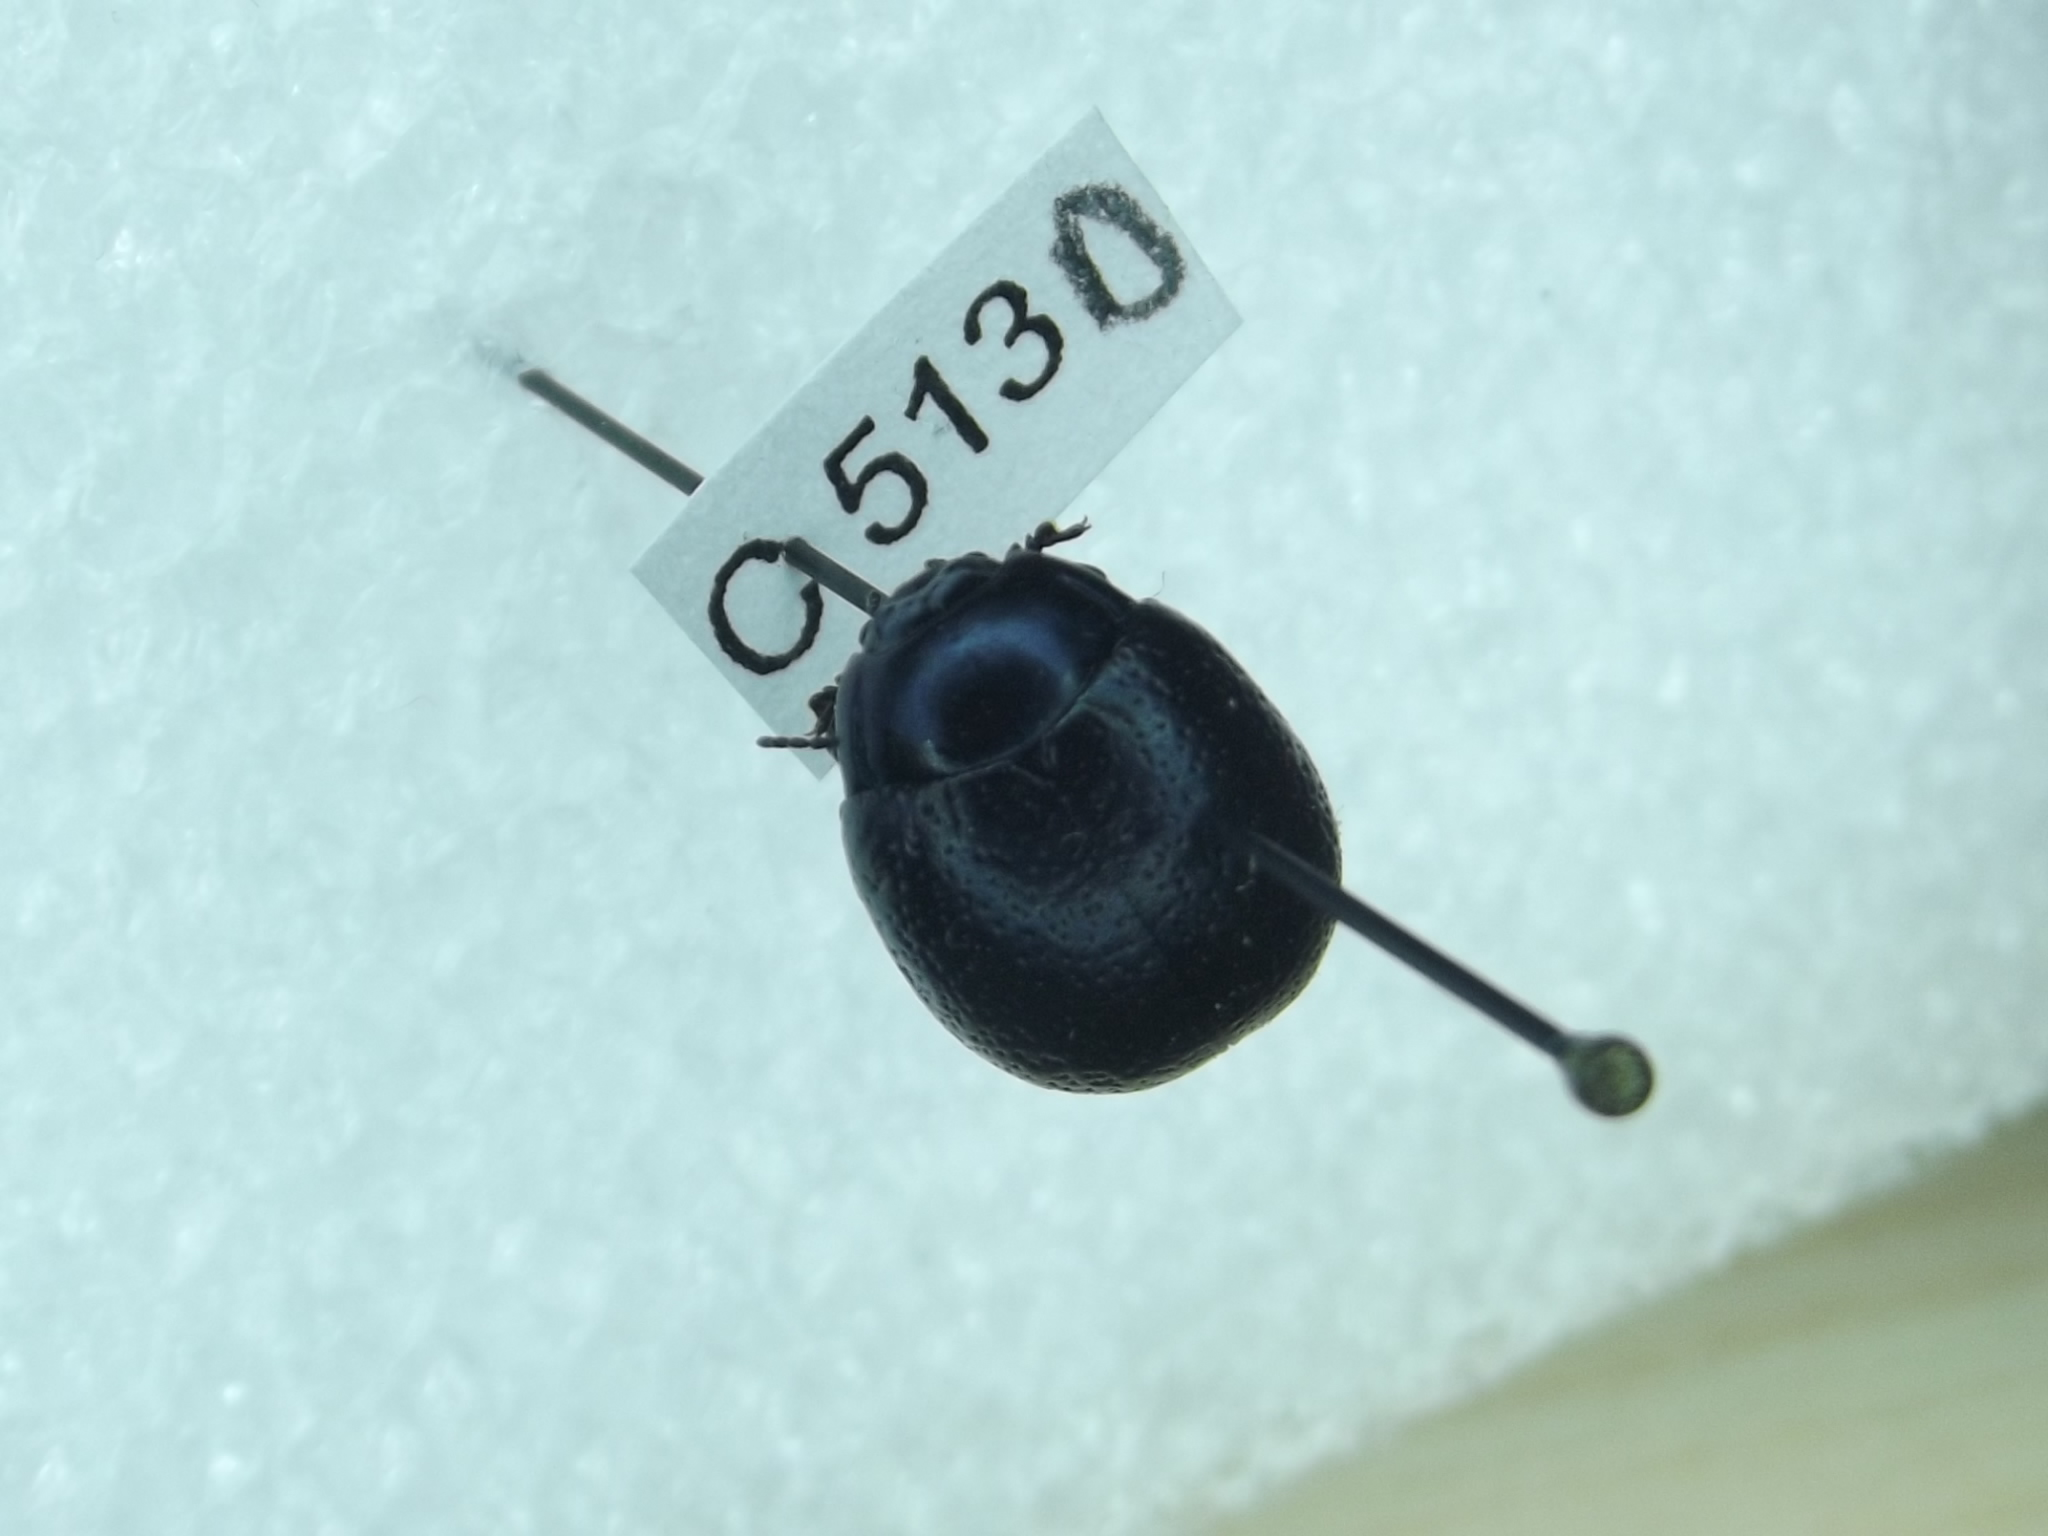Chrysolina_oricalcia: (747, 516, 1342, 1105)
